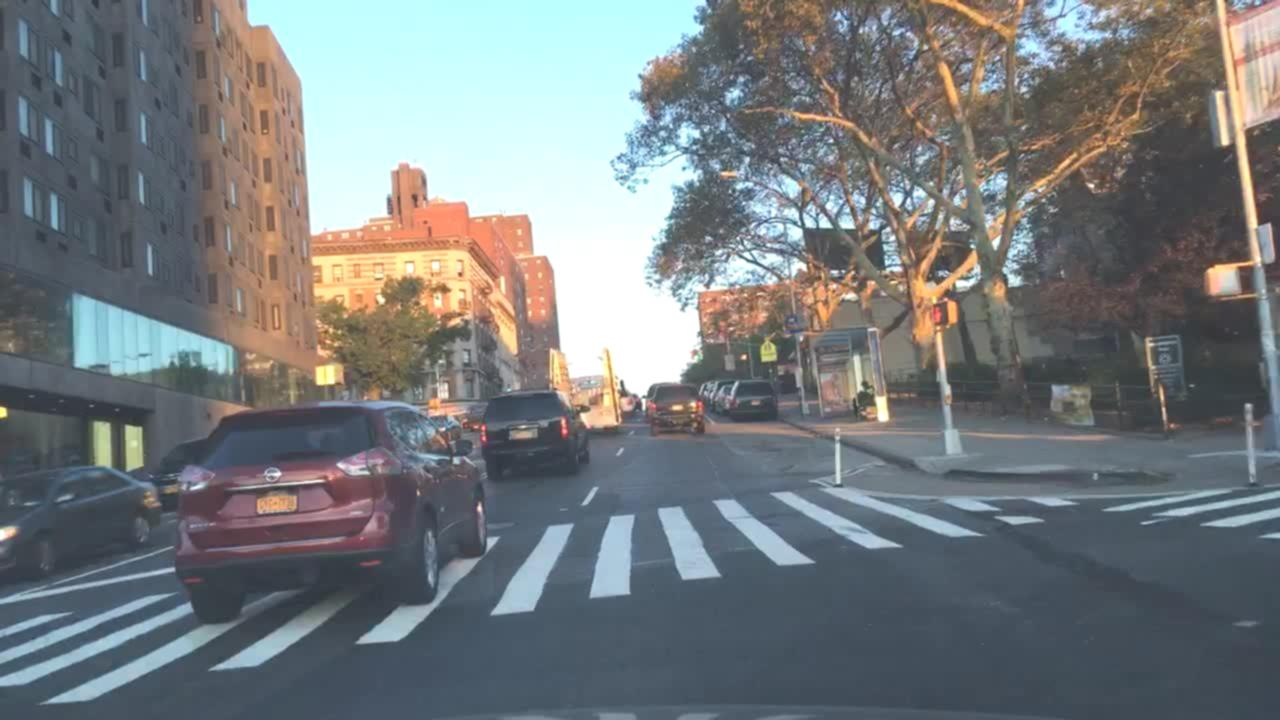Nissan: (261, 466, 289, 487)
